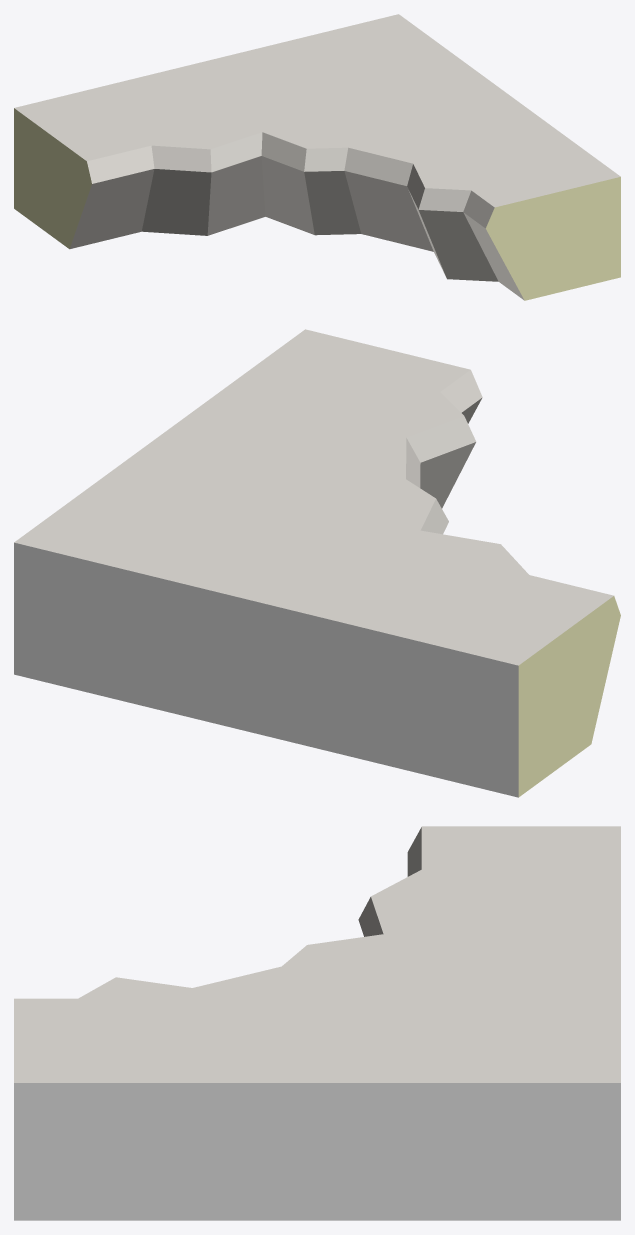
Rendered from Cracked_Curve_Inner_4x4_1_Top.glb.
The picture shows the model from 3 angles, top to bottom: view 1: azimuth 30°, elevation 25°; view 2: azimuth 150°, elevation 25°; view 3: azimuth 270°, elevation 25°; orthographic projection. The views are drawn at different scales.
Parts seen in each view (by area): view 1: Cracked_Curve_Inner_4x4_1_Top; view 2: Cracked_Curve_Inner_4x4_1_Top; view 3: Cracked_Curve_Inner_4x4_1_Top.
Part boxes in pixels (left/top/right/bottom): Cracked_Curve_Inner_4x4_1_Top: left=14, top=14, right=620, bottom=300; Cracked_Curve_Inner_4x4_1_Top: left=14, top=329, right=620, bottom=797; Cracked_Curve_Inner_4x4_1_Top: left=14, top=826, right=620, bottom=1220.
Bounding box in the file's own units: 400 × 100 × 400.
